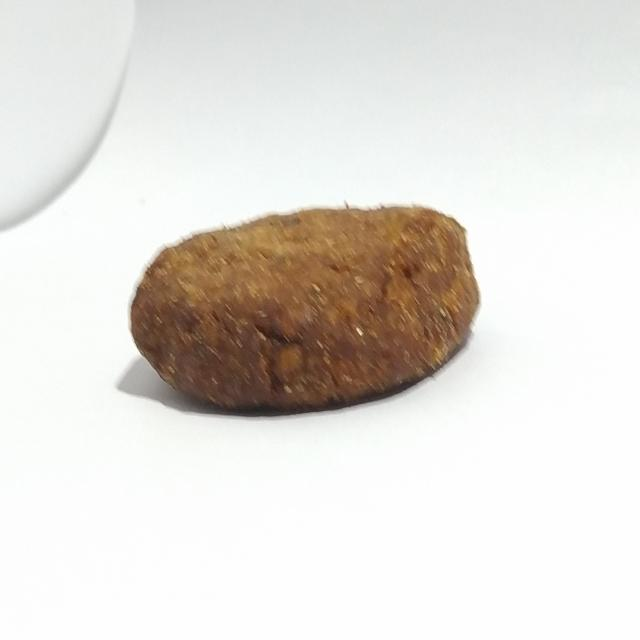Pajagua: (126, 190, 484, 422)
